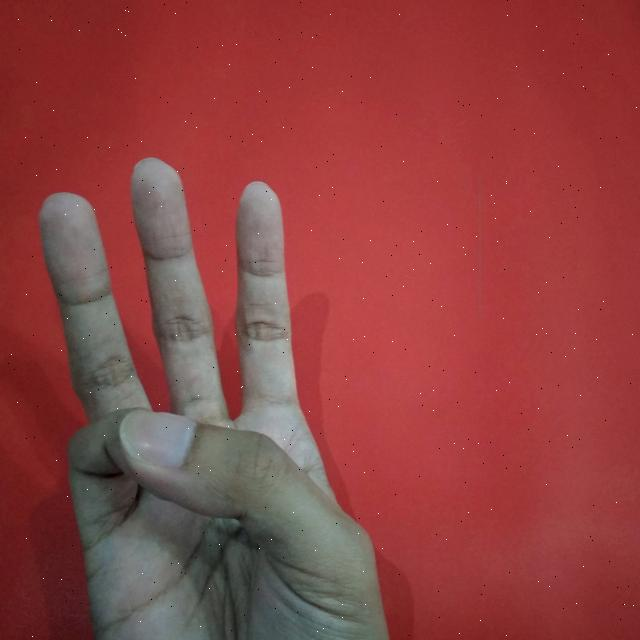W: (24, 151, 390, 640)
